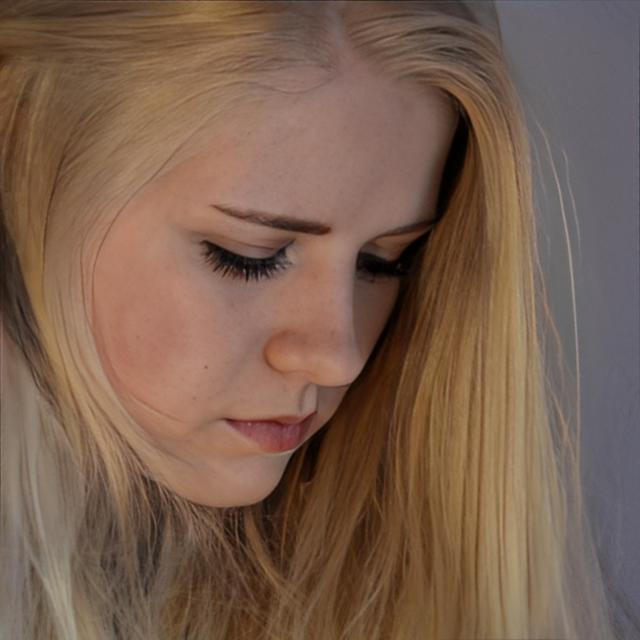sad: (80, 56, 458, 517)
